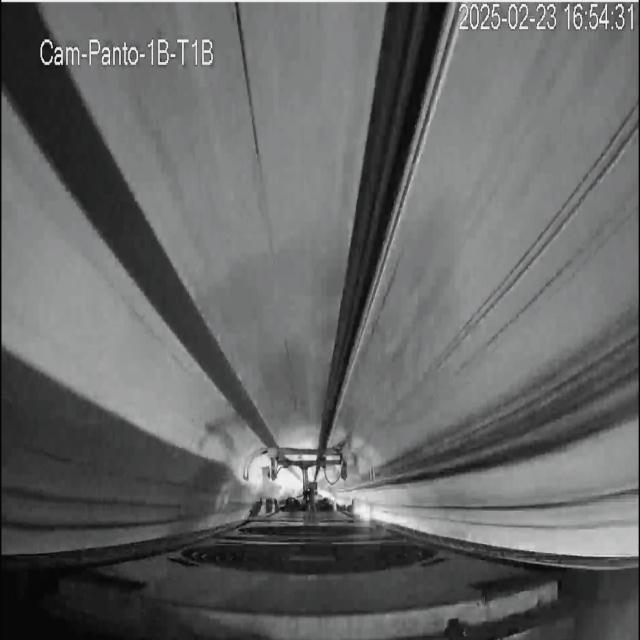Camera Stamp: (37, 31, 219, 71)
Date Stamp: (456, 3, 630, 33)
No - Spark: (220, 417, 369, 510)
